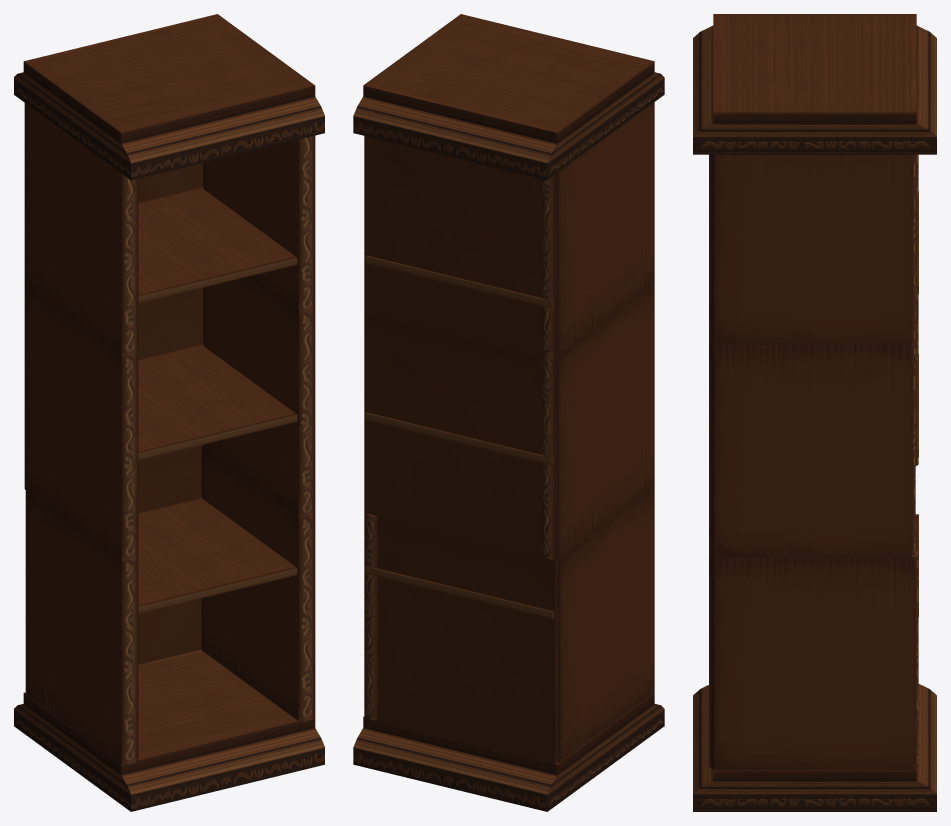
The model's file is Modular_Bookshelf_Thin.fbx.
3 views of the same model, side by side, from view 1: azimuth 30°, elevation 25°; view 2: azimuth 150°, elevation 25°; view 3: azimuth 270°, elevation 25° (orthographic). The views are drawn at different scales.
Visible parts, largest first — view 1: Bevelled_MID_TnB2, Bevelled_MID_TnB1, Panel13, Panel11, Panel15, Panel12, Panel14, Shelf_Base10, Shelf_Base9, Shelf_Base11, Panel16, InsidePanels_Base10 (+2 smaller); view 2: InsidePanels_Base11, InsidePanels_Base10, Bevelled_MID_TnB2, InsidePanels_Base12, Panel13, Panel11, Panel15, Bevelled_MID_TnB1, Panel12, Shelf_Base9, Shelf_Base10, Shelf_Base11; view 3: Panel12, Panel14, Panel16, Bevelled_MID_TnB2, Bevelled_MID_TnB1.
Part boxes in pixels (left/top/right/bottom): Bevelled_MID_TnB2: left=14, top=14, right=324, bottom=180; Bevelled_MID_TnB1: left=14, top=649, right=324, bottom=811; Panel13: left=24, top=285, right=138, bottom=560; Panel11: left=26, top=491, right=138, bottom=764; Panel15: left=24, top=103, right=138, bottom=355; Panel12: left=201, top=445, right=315, bottom=721; Panel14: left=203, top=276, right=315, bottom=516; Shelf_Base10: left=138, top=343, right=297, bottom=460; Shelf_Base9: left=138, top=186, right=297, bottom=303; Shelf_Base11: left=138, top=497, right=297, bottom=613; Panel16: left=203, top=135, right=315, bottom=312; InsidePanels_Base10: left=25, top=447, right=201, bottom=691; InsidePanels_Base11: left=364, top=313, right=555, bottom=561; InsidePanels_Base10: left=364, top=515, right=555, bottom=763; Bevelled_MID_TnB2: left=353, top=14, right=664, bottom=180; InsidePanels_Base12: left=364, top=136, right=555, bottom=359; Panel13: left=543, top=285, right=654, bottom=559; Panel11: left=555, top=489, right=654, bottom=762; Panel15: left=543, top=102, right=654, bottom=355; Bevelled_MID_TnB1: left=353, top=693, right=664, bottom=811; Panel12: left=366, top=513, right=377, bottom=720; Shelf_Base9: left=365, top=255, right=553, bottom=308; Shelf_Base10: left=365, top=412, right=553, bottom=465; Shelf_Base11: left=365, top=566, right=553, bottom=618; Panel12: left=709, top=550, right=918, bottom=769; Panel14: left=709, top=342, right=915, bottom=557; Panel16: left=709, top=154, right=915, bottom=344; Bevelled_MID_TnB2: left=693, top=14, right=936, bottom=154; Bevelled_MID_TnB1: left=693, top=684, right=936, bottom=811.
Size of the model in its own units: 62.82 by 208 by 65.7.
